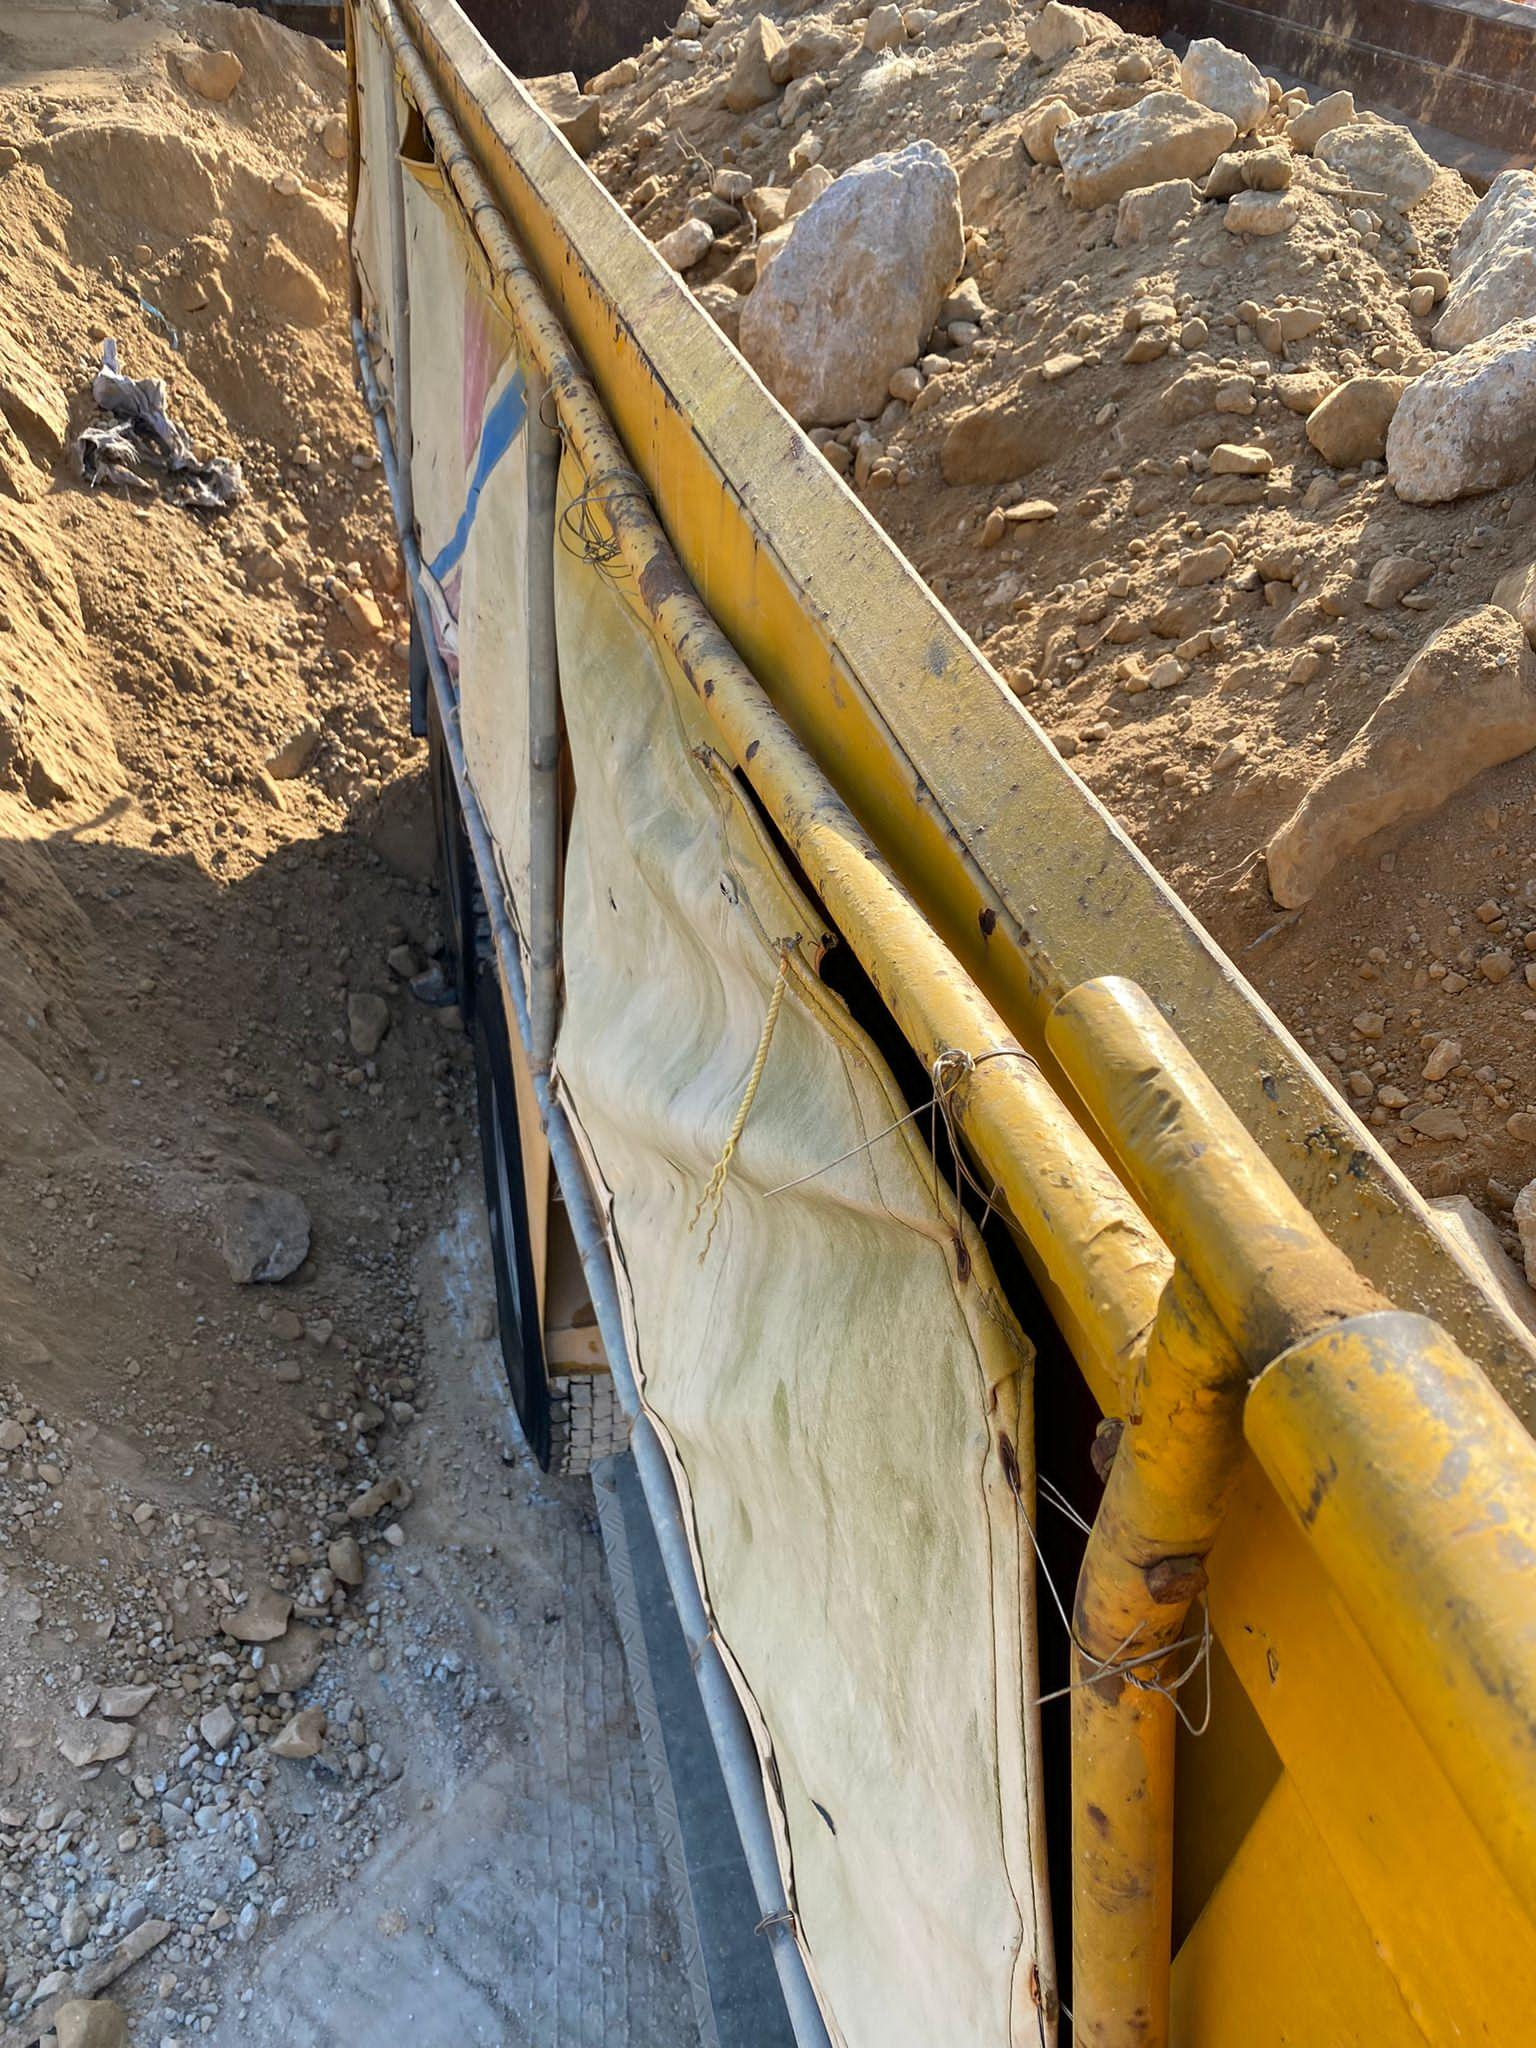dry: (534, 6, 1536, 1271)
